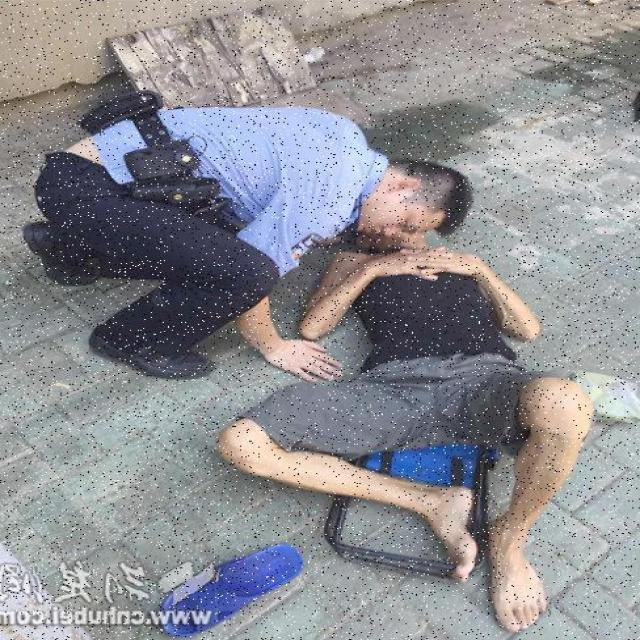fall: (218, 238, 586, 627)
